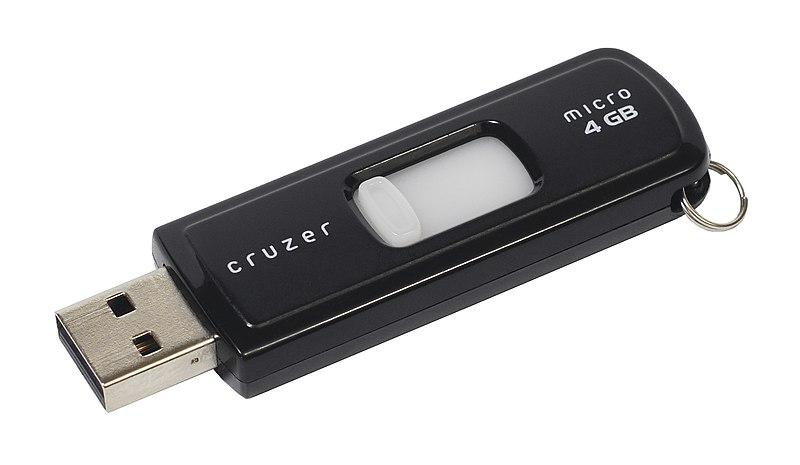USB Flash Drive: (53, 48, 711, 413)
